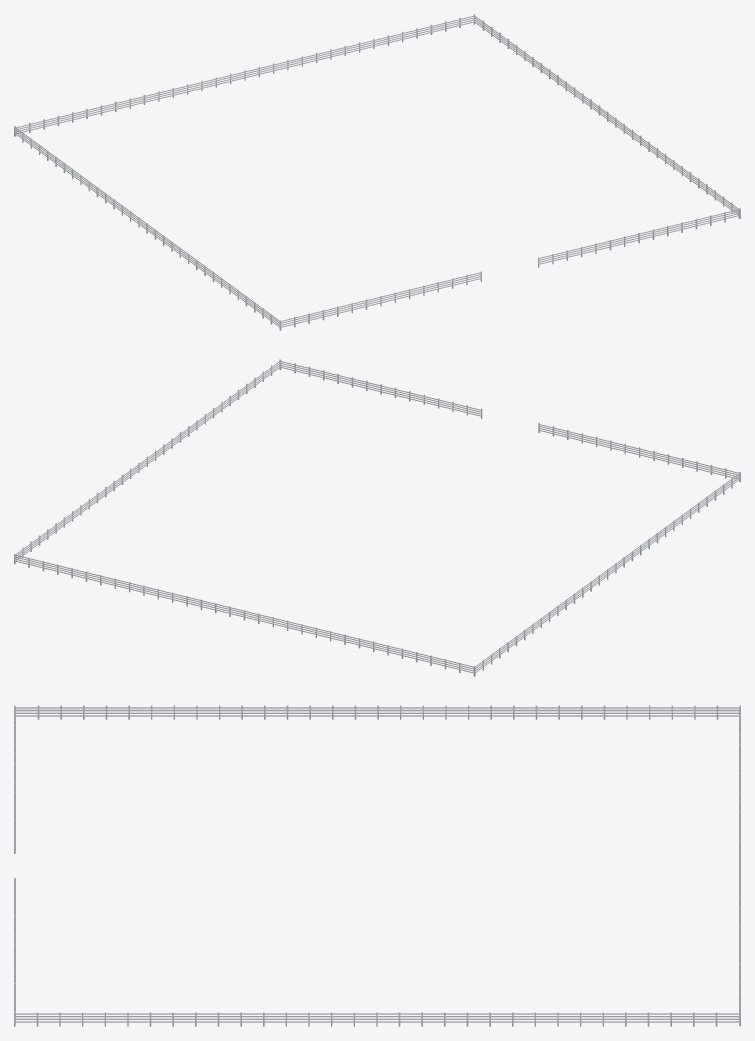
The model's file is fence-transformed.glb.
3 views of the same model, one above another, from view 1: azimuth 30°, elevation 25°; view 2: azimuth 150°, elevation 25°; view 3: azimuth 270°, elevation 25° (orthographic). The views are drawn at different scales.
Parts seen in each view (by area): view 1: SM_Prop_Fence_Fancy_02.077; view 2: SM_Prop_Fence_Fancy_02.077; view 3: SM_Prop_Fence_Fancy_02.077.
Part boxes in pixels (x1,y1,x2,y2): SM_Prop_Fence_Fancy_02.077: (14,14,740,330); SM_Prop_Fence_Fancy_02.077: (14,359,740,676); SM_Prop_Fence_Fancy_02.077: (14,705,740,1026).
Bounding box in the file's own units: 80.38 × 1.7 × 80.3.
1 material, 1 textured.
